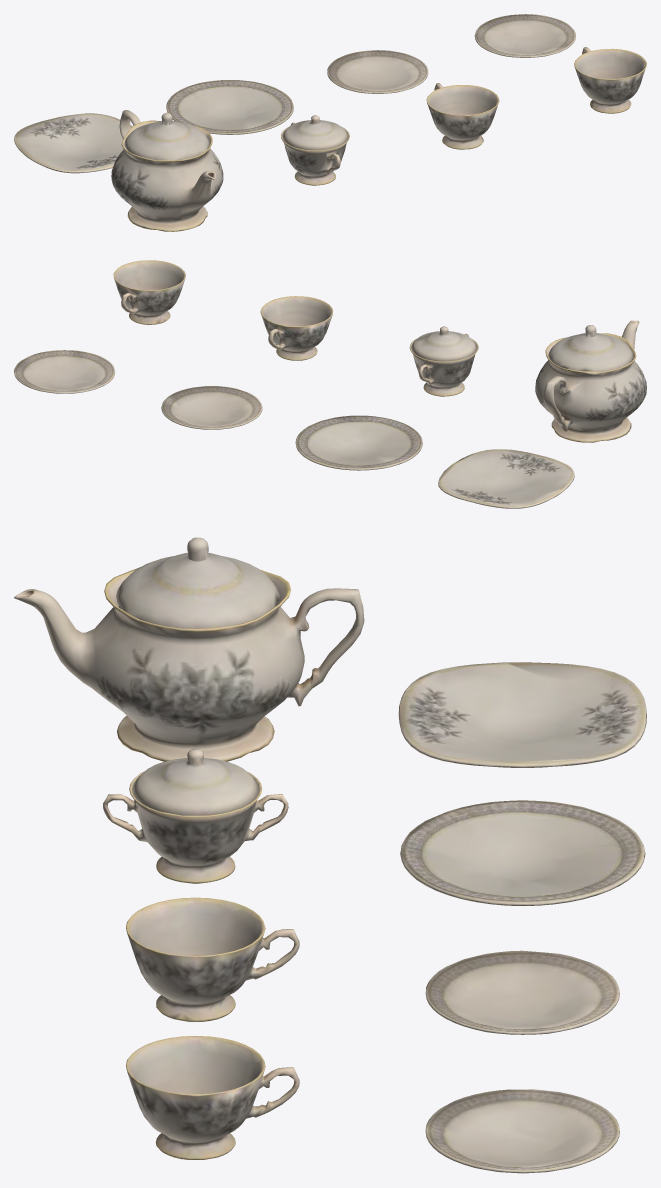
Rendered from tea_set_01.glb.
The picture shows the model from 3 angles, top to bottom: view 1: azimuth 30°, elevation 25°; view 2: azimuth 150°, elevation 25°; view 3: azimuth 270°, elevation 25°; orthographic projection. The views are drawn at different scales.
Parts seen in each view (by area): view 1: tea_set_01_plate_large_square_01; view 2: tea_set_01_plate_large_square_01; view 3: tea_set_01_plate_large_square_01.
Part boxes in pixels (box(x1,y1,x2,y2)): tea_set_01_plate_large_square_01: box(14, 14, 646, 231); tea_set_01_plate_large_square_01: box(14, 260, 646, 508); tea_set_01_plate_large_square_01: box(14, 537, 646, 1173).
Bounding box in the file's own units: 0.9183 × 0.165 × 0.4839.
Materials: 1 (1 with a texture image).
